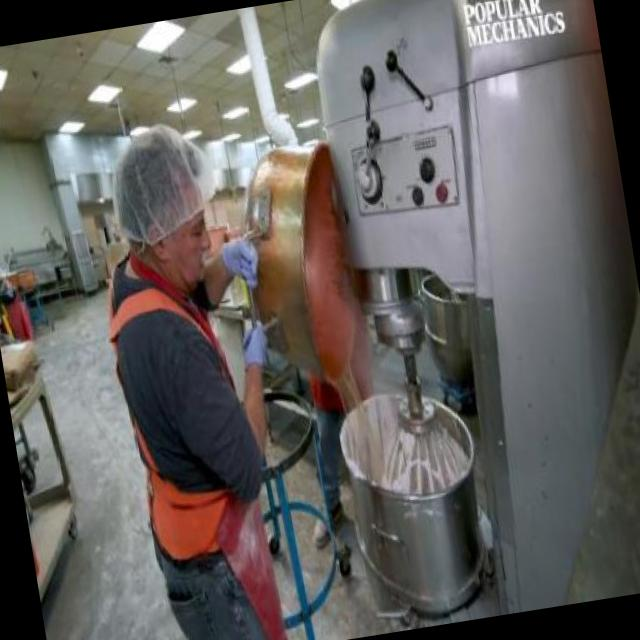hairnet: (105, 123, 222, 244)
